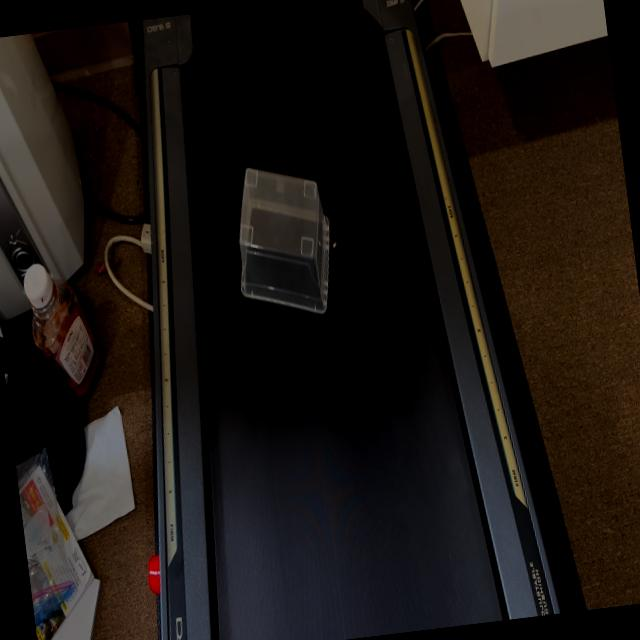Trash: (224, 149, 350, 331)
